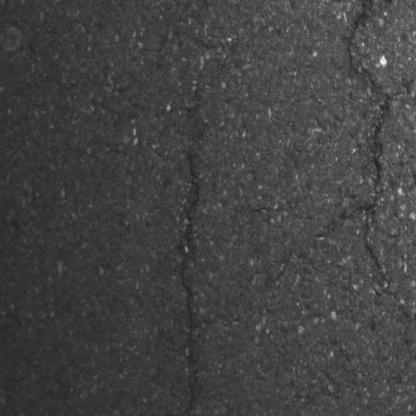Cracks: (337, 10, 395, 274), (174, 157, 205, 371), (185, 388, 199, 416)
